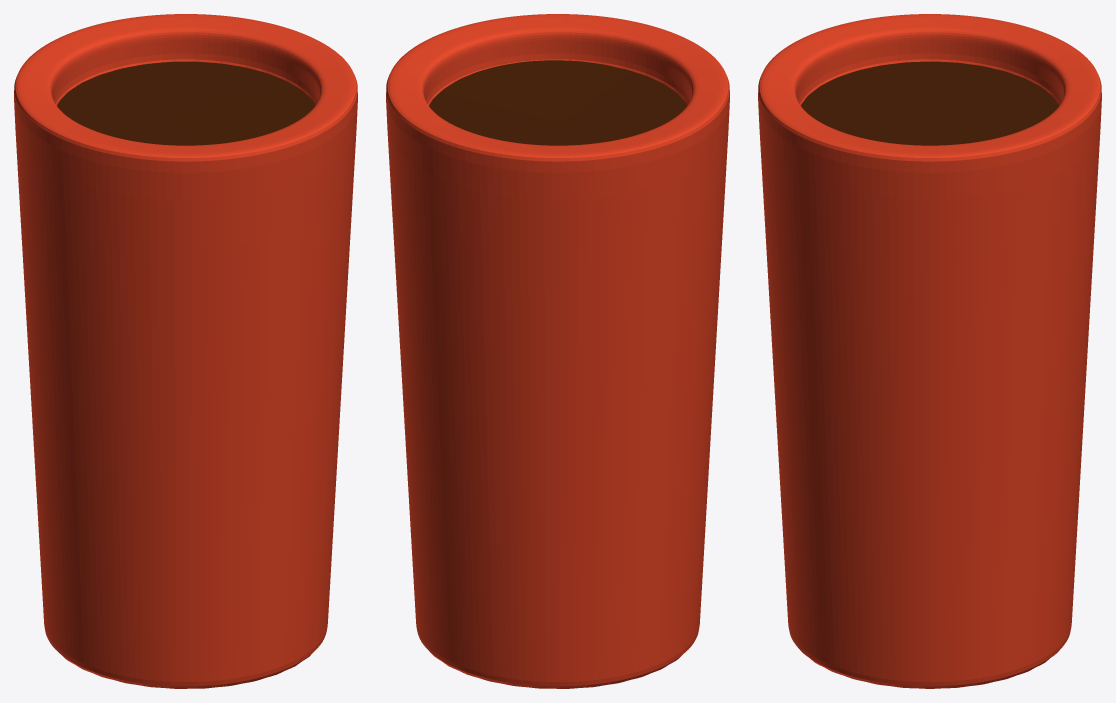
File: Maceta.fbx
3 renders of one model, left to right at view 1: azimuth 30°, elevation 25°; view 2: azimuth 150°, elevation 25°; view 3: azimuth 270°, elevation 25°, orthographic.
Parts seen in each view (by area): view 1: Maceta, Plane; view 2: Maceta, Plane; view 3: Maceta, Plane.
Boxes of the visible parts, x1,y1,x2,y2 form: Maceta: (14,14,357,688); Plane: (57,61,315,145); Maceta: (386,14,729,688); Plane: (429,60,686,145); Maceta: (758,14,1101,688); Plane: (801,61,1058,145).
Bounding box in the file's own units: 672 × 1199 × 672.
